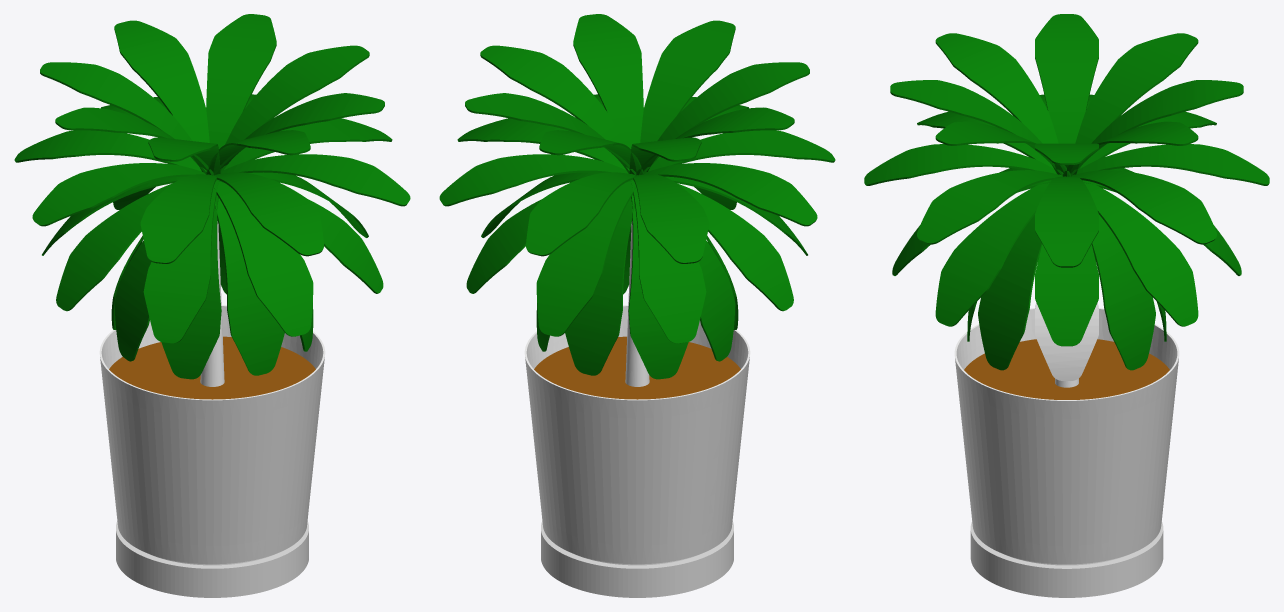
The model's file is planta_maceta.dae.
The picture shows the model from 3 angles, left to right: view 1: azimuth 30°, elevation 25°; view 2: azimuth 150°, elevation 25°; view 3: azimuth 270°, elevation 25°; orthographic projection.
Visible parts, largest first — view 1: node_55a5aa54_2380_4d58_9a3b_2ab3b1fab181_mesh0, node_55a5aa54_2380_4d58_9a3b_2ab3b1fab181_mesh3, node_55a5aa54_2380_4d58_9a3b_2ab3b1fab181_mesh2, node_55a5aa54_2380_4d58_9a3b_2ab3b1fab181_mesh1; view 2: node_55a5aa54_2380_4d58_9a3b_2ab3b1fab181_mesh0, node_55a5aa54_2380_4d58_9a3b_2ab3b1fab181_mesh3, node_55a5aa54_2380_4d58_9a3b_2ab3b1fab181_mesh2, node_55a5aa54_2380_4d58_9a3b_2ab3b1fab181_mesh1; view 3: node_55a5aa54_2380_4d58_9a3b_2ab3b1fab181_mesh0, node_55a5aa54_2380_4d58_9a3b_2ab3b1fab181_mesh3, node_55a5aa54_2380_4d58_9a3b_2ab3b1fab181_mesh2, node_55a5aa54_2380_4d58_9a3b_2ab3b1fab181_mesh1.
Part boxes in pixels (left/top/right/bottom): node_55a5aa54_2380_4d58_9a3b_2ab3b1fab181_mesh0: left=14, top=14, right=410, bottom=379; node_55a5aa54_2380_4d58_9a3b_2ab3b1fab181_mesh3: left=100, top=357, right=324, bottom=597; node_55a5aa54_2380_4d58_9a3b_2ab3b1fab181_mesh2: left=109, top=336, right=315, bottom=399; node_55a5aa54_2380_4d58_9a3b_2ab3b1fab181_mesh1: left=99, top=221, right=325, bottom=565; node_55a5aa54_2380_4d58_9a3b_2ab3b1fab181_mesh0: left=439, top=14, right=835, bottom=379; node_55a5aa54_2380_4d58_9a3b_2ab3b1fab181_mesh3: left=525, top=357, right=749, bottom=597; node_55a5aa54_2380_4d58_9a3b_2ab3b1fab181_mesh2: left=534, top=336, right=740, bottom=399; node_55a5aa54_2380_4d58_9a3b_2ab3b1fab181_mesh1: left=524, top=221, right=750, bottom=565; node_55a5aa54_2380_4d58_9a3b_2ab3b1fab181_mesh0: left=864, top=14, right=1269, bottom=370; node_55a5aa54_2380_4d58_9a3b_2ab3b1fab181_mesh3: left=955, top=358, right=1178, bottom=597; node_55a5aa54_2380_4d58_9a3b_2ab3b1fab181_mesh2: left=964, top=339, right=1169, bottom=399; node_55a5aa54_2380_4d58_9a3b_2ab3b1fab181_mesh1: left=954, top=303, right=1179, bottom=565.
Size of the model in its own units: 321 by 321 by 409.
